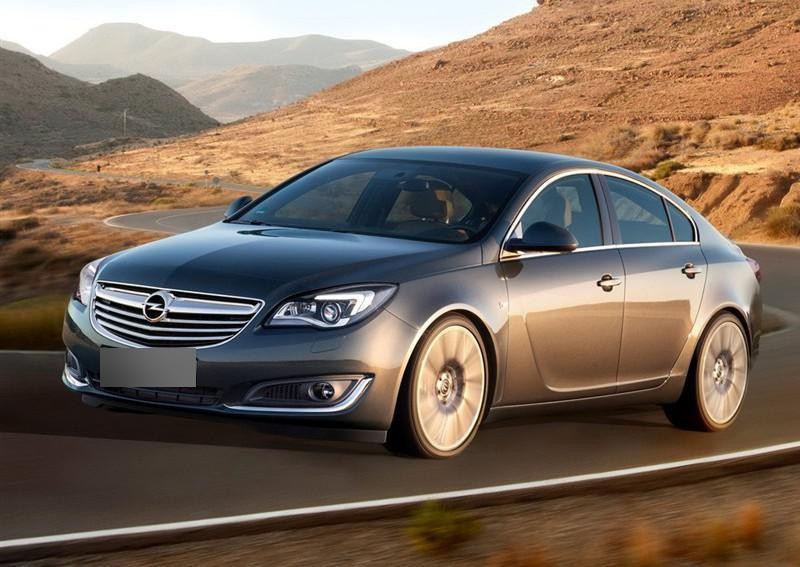Wagon: (61, 144, 764, 460)
